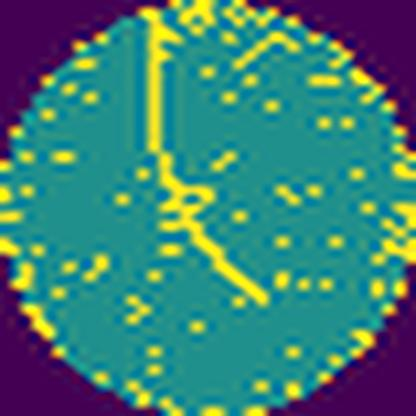Scratch: (132, 2, 274, 308)
